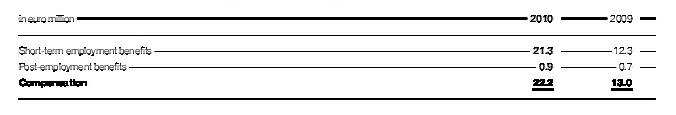table: (0, 0, 676, 115)
